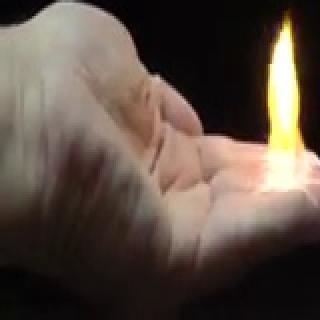fire: (257, 0, 313, 210)
